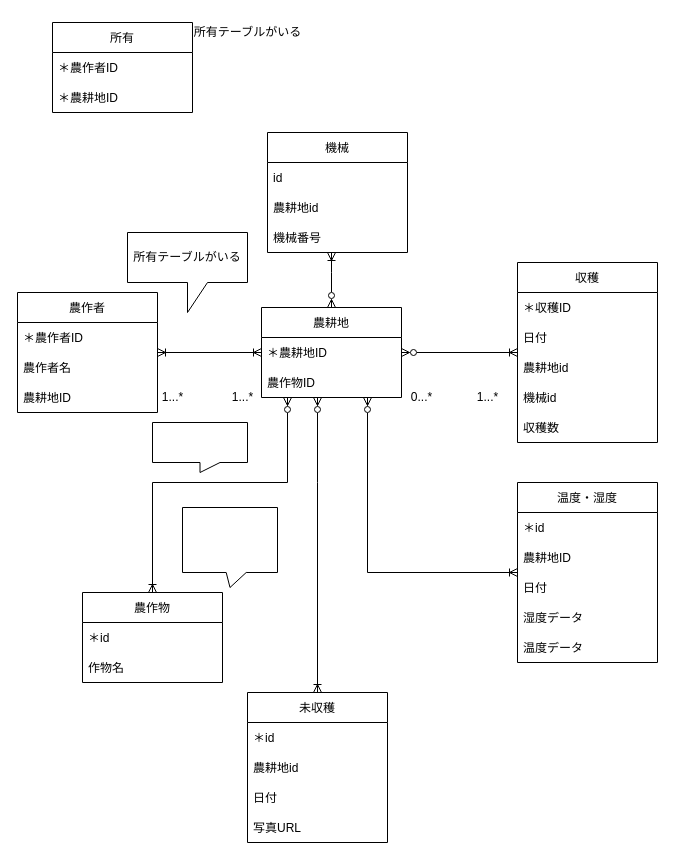
This 675x860 diagram has some shape labels left out. The centre of each missing label's shape, as x and y in pixels:
"収穫テーブルが移動" belongs at (x=200, y=447).
"始まりの日付がいるかも？" belongs at (x=230, y=547).
